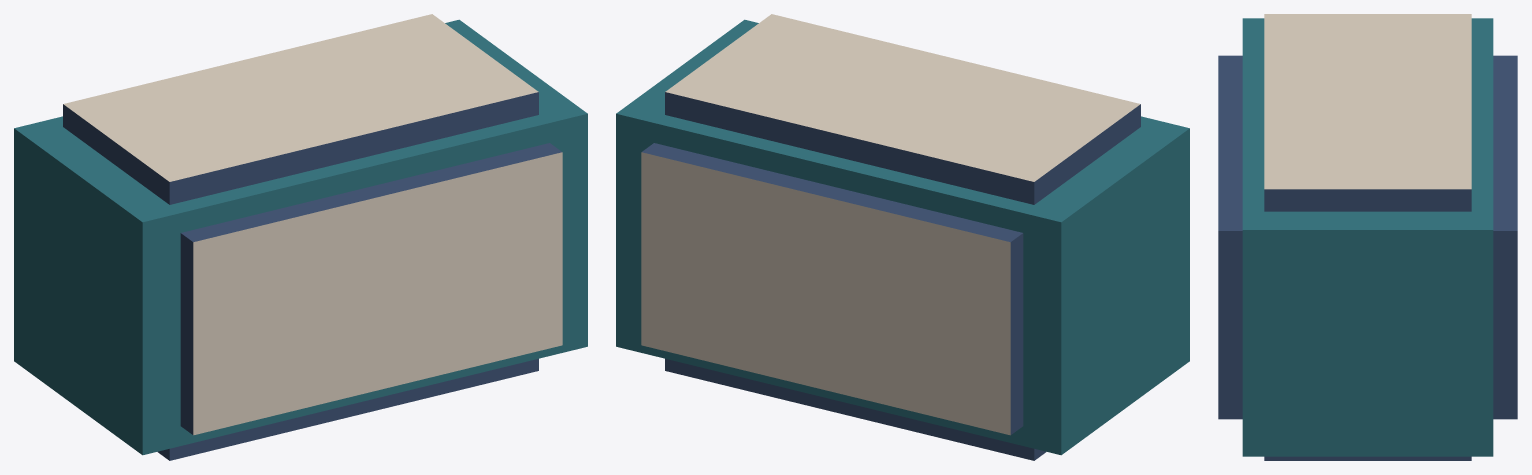
File: drop_bomb.fbx
3 views of the same model, side by side, from view 1: azimuth 30°, elevation 25°; view 2: azimuth 150°, elevation 25°; view 3: azimuth 270°, elevation 25° (orthographic). The views are drawn at different scales.
Parts seen in each view (by area): view 1: DropBomb; view 2: DropBomb; view 3: DropBomb.
Boxes of the visible parts, x1,y1,x2,y2 form: DropBomb: (14, 14, 587, 460); DropBomb: (616, 14, 1189, 460); DropBomb: (1218, 14, 1517, 460).
Bounding box in the file's own units: 200 × 120 × 120.
